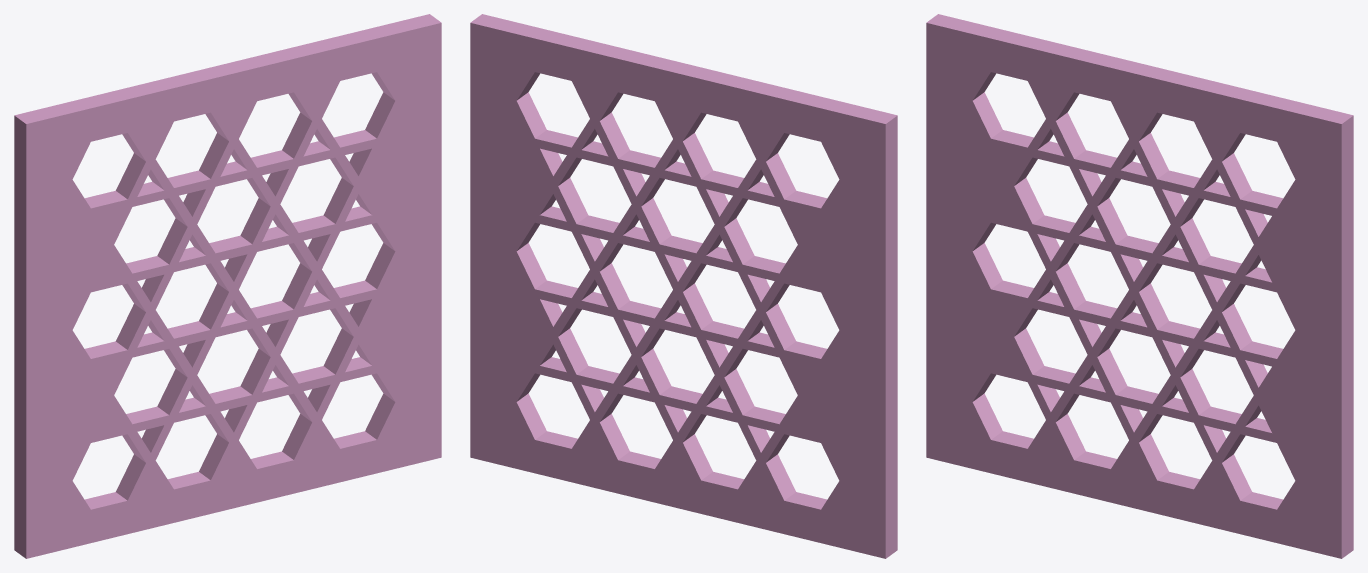
File: kagome_panel_demo.glb
The picture shows the model from 3 angles, left to right: view 1: azimuth 30°, elevation 25°; view 2: azimuth 150°, elevation 25°; view 3: azimuth 330°, elevation 25°; orthographic projection.
Visible parts, largest first — view 1: kagome_panel; view 2: kagome_panel; view 3: kagome_panel.
Part boxes in pixels (bbox=[...]): kagome_panel: bbox=[14, 14, 441, 558]; kagome_panel: bbox=[470, 14, 897, 558]; kagome_panel: bbox=[926, 14, 1353, 558].
Bounding box in the file's own units: 60 × 60 × 3.
